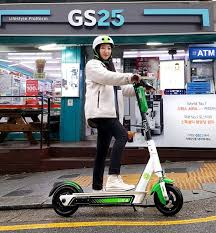kick_body: (81, 192, 141, 206)
kick_wheel: (152, 182, 183, 215), (52, 183, 78, 215)
